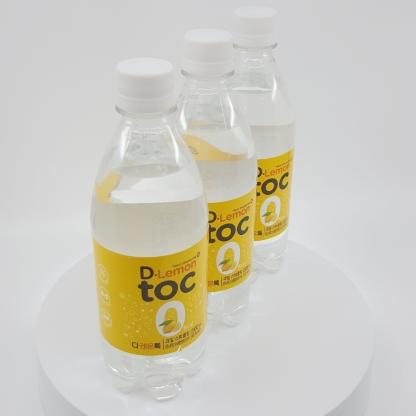------500ML: (90, 57, 209, 400), (161, 28, 258, 330), (211, 6, 296, 283)
